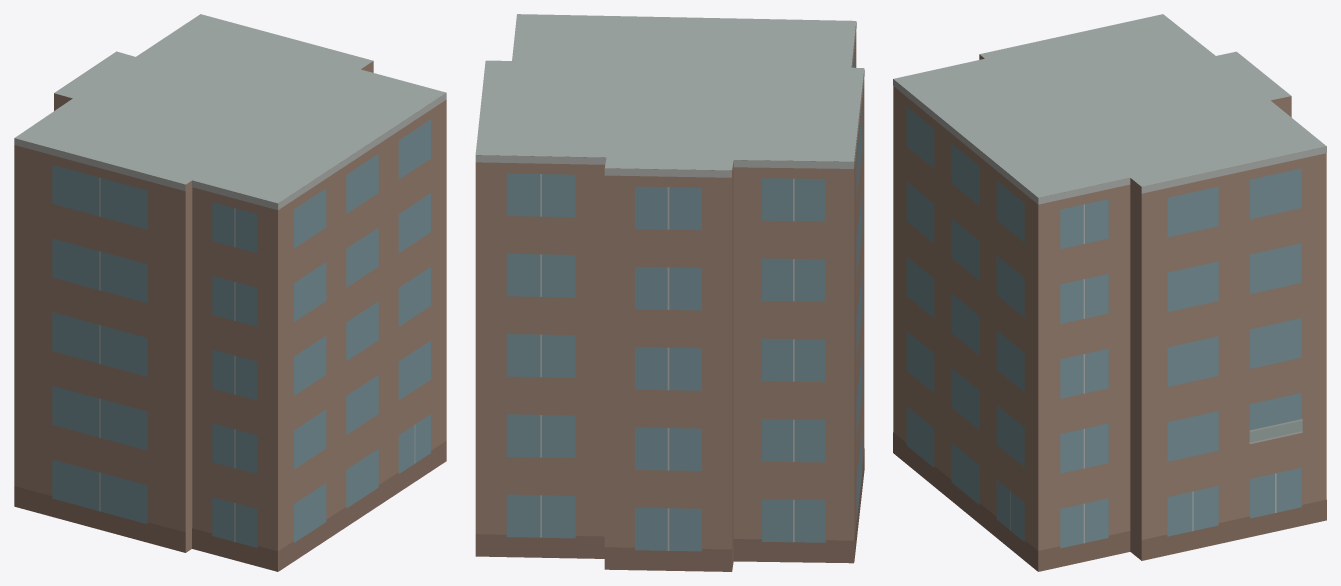
File: survey-upis-32831480.glb
3 renders of one model, left to right at view 1: azimuth 30°, elevation 25°; view 2: azimuth 150°, elevation 25°; view 3: azimuth 270°, elevation 25°, orthographic. The views are drawn at different scales.
Visible parts, largest first — view 1: survey-upis-32831480.tmp; view 2: survey-upis-32831480.tmp; view 3: survey-upis-32831480.tmp.
Boxes of the visible parts, x1,y1,x2,y2 form: survey-upis-32831480.tmp: (14,14,446,571); survey-upis-32831480.tmp: (475,14,864,571); survey-upis-32831480.tmp: (893,14,1326,571).
Size of the model in its own units: 14.02 by 13.3 by 13.98.
